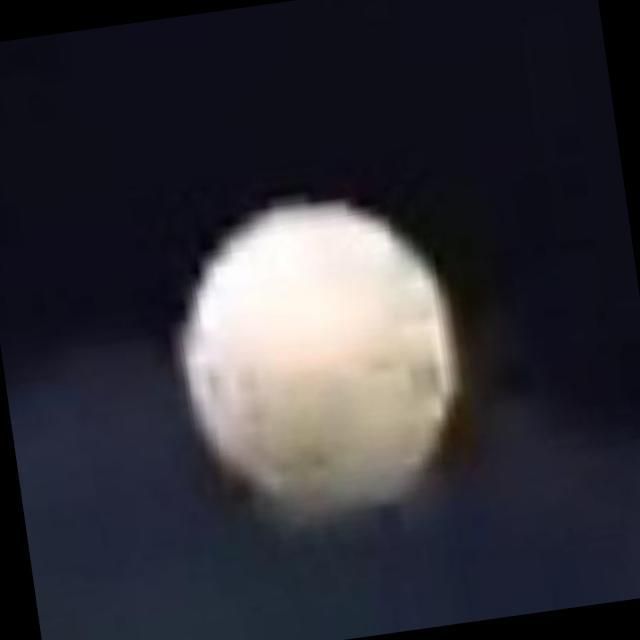-: (156, 189, 483, 534)
